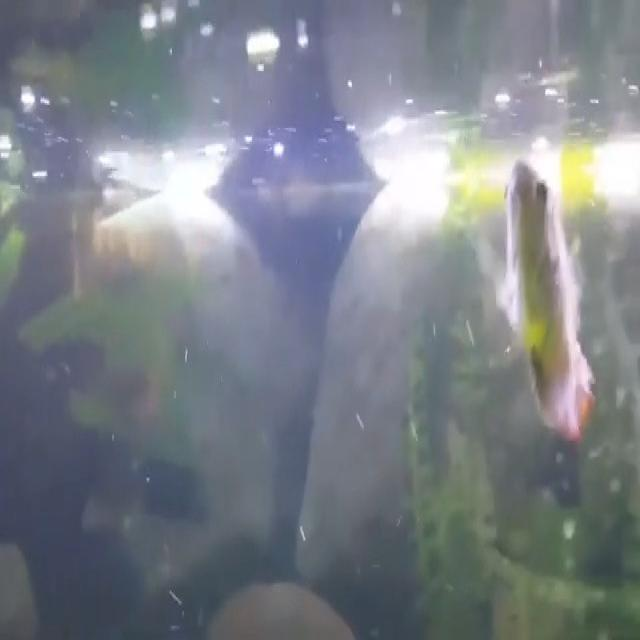fish: (494, 144, 604, 517)
